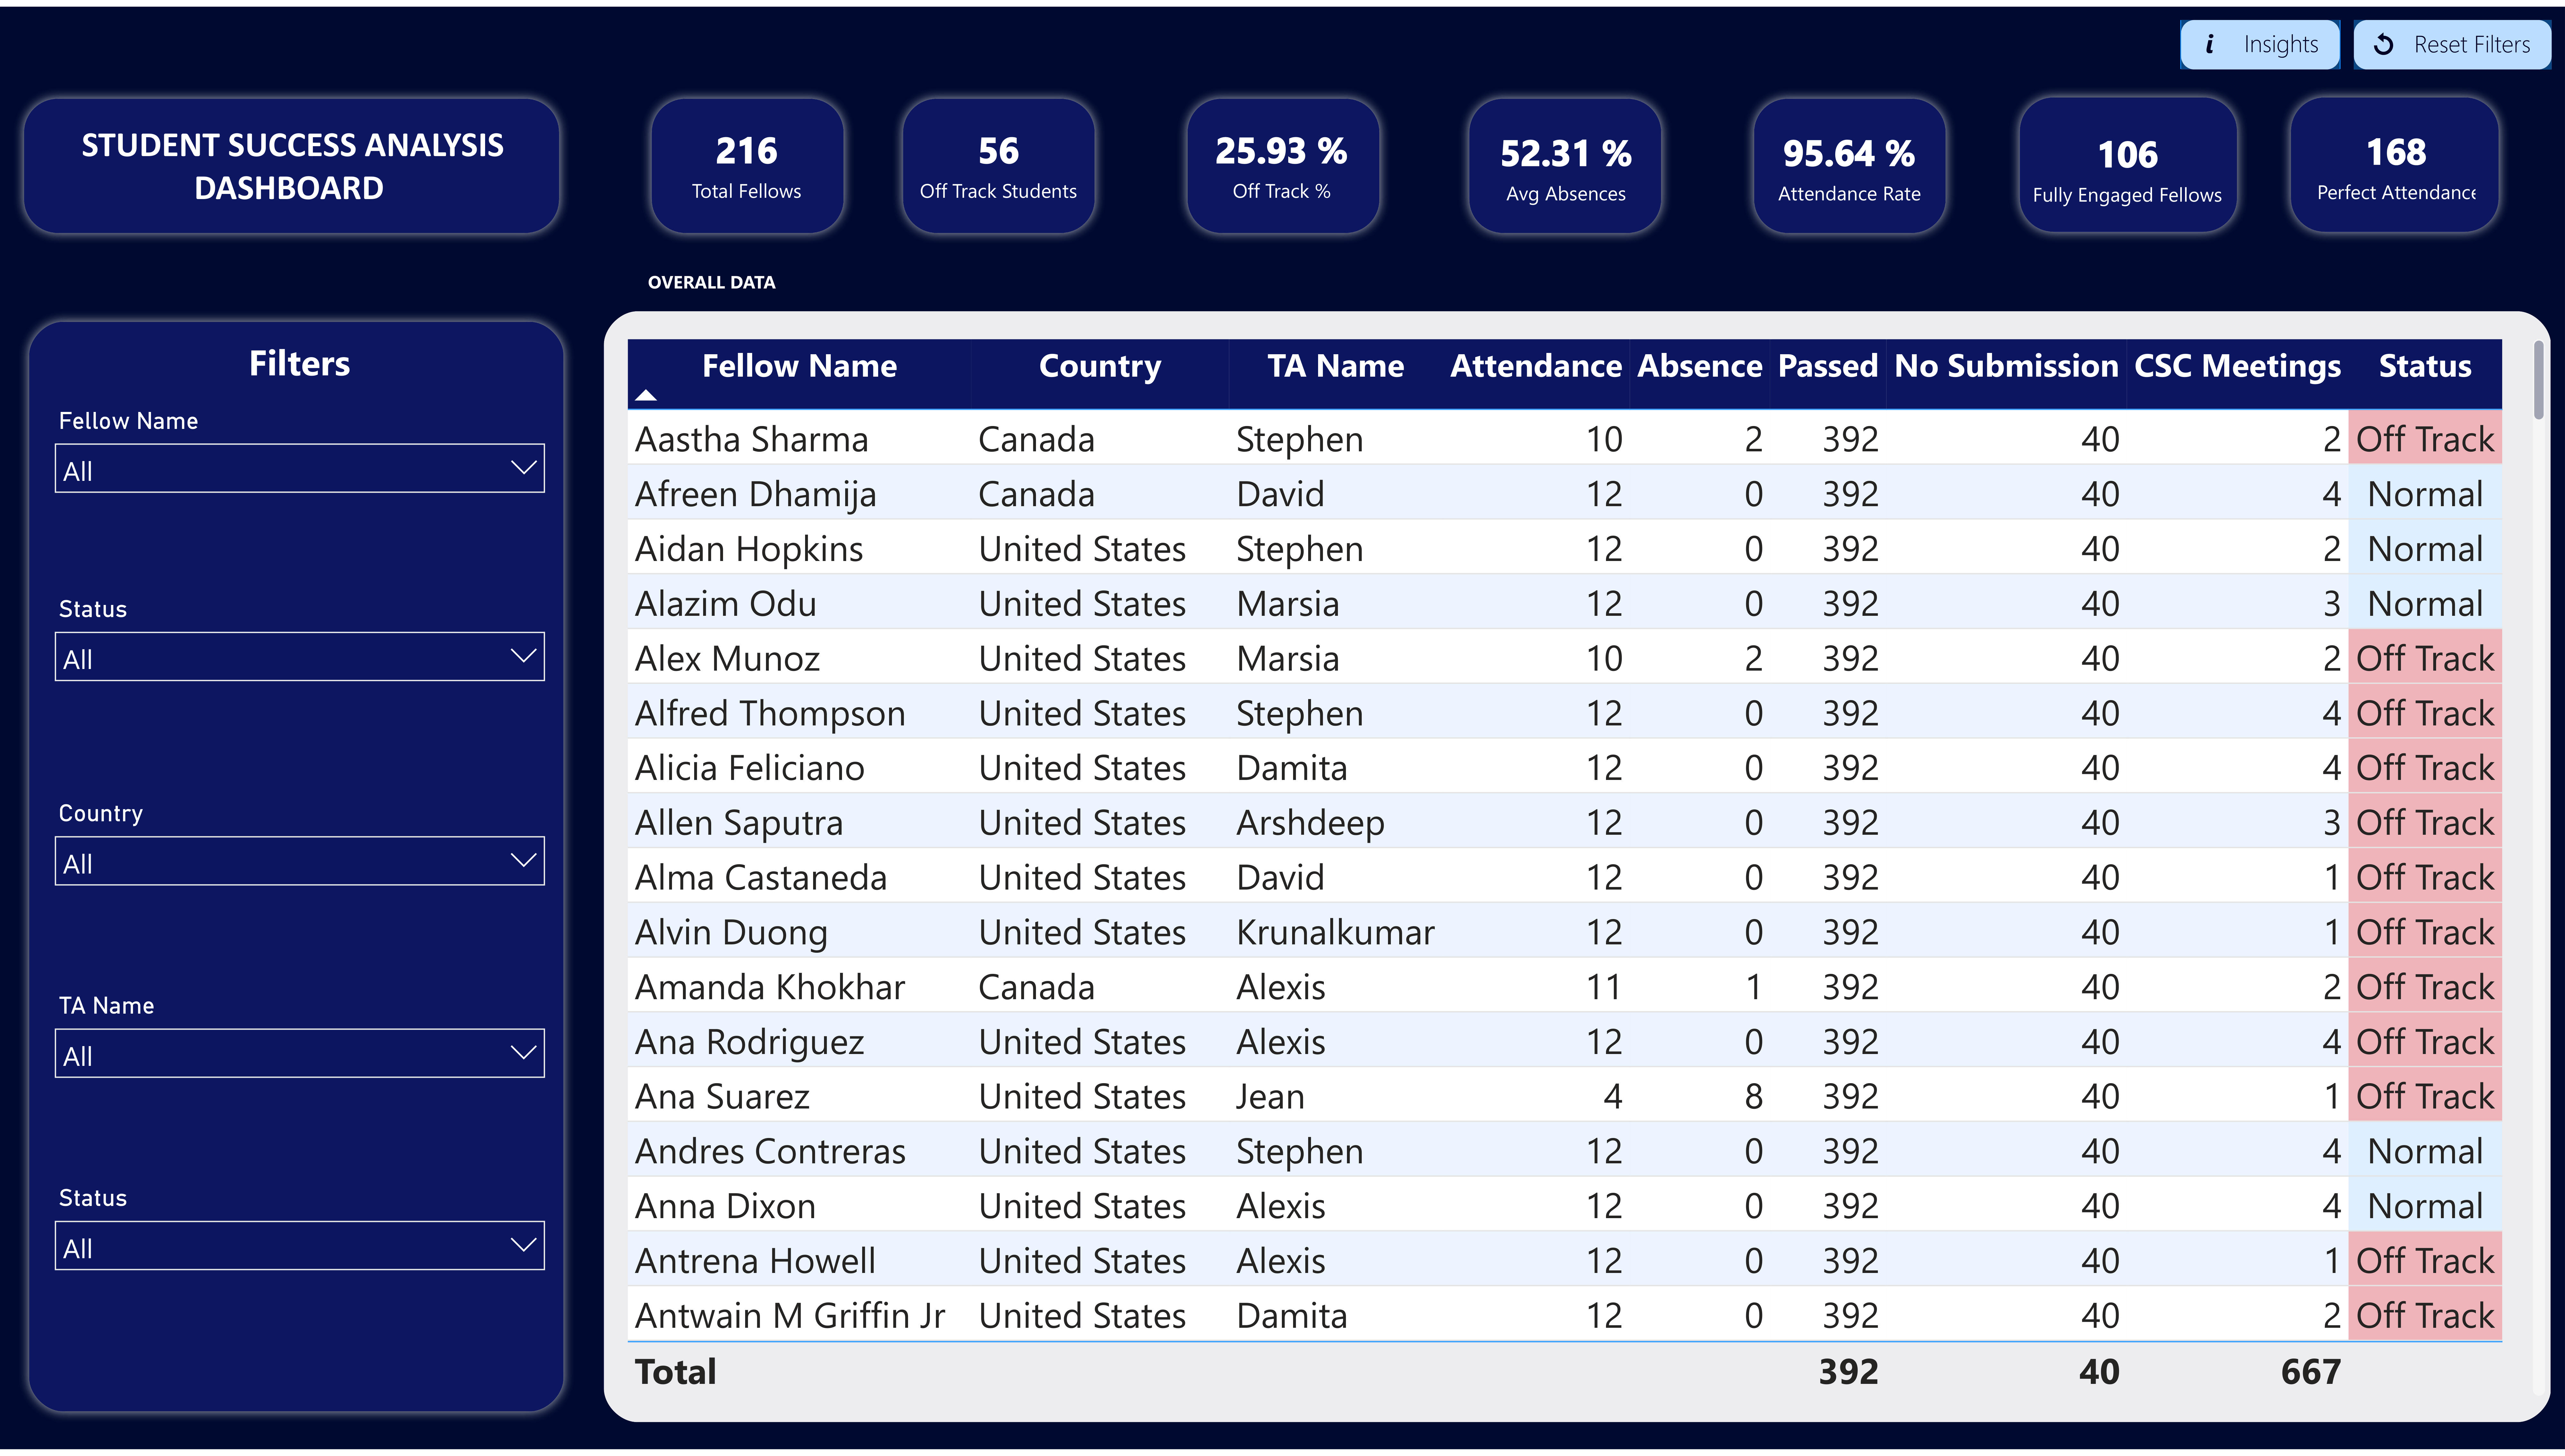

Layout of this report page (visuals, bound fields, positions):
{"tool":"powerbi","page":{"name":"Student Risk Table","canvas":[1920,1080],"ordinal":1},"visuals":[{"type":"shape","box":[1707,60.4,171.3,116.6],"z":0},{"type":"shape","box":[1504,60.4,178.5,116.6],"z":1000},{"type":"shape","box":[1304.9,60.8,159.5,116.4],"z":2000},{"type":"shape","box":[1092.3,60.8,159.5,116.4],"z":3000},{"type":"shape","box":[880.9,60.8,159.5,116.4],"z":4000},{"type":"shape","box":[668.3,60.8,159.5,116.4],"z":5000},{"type":"shape","box":[479.7,60.8,159.5,116.4],"z":8000},{"type":"shape","box":[452.1,228,1457.5,831.7],"z":9000},{"type":"cardVisual","fields":{"Data":["Medidas DAX.Avg Absences Per Fellow"]},"box":[1071.4,70,202.1,98.5],"z":10000},{"type":"cardVisual","fields":{"Data":["Medidas DAX.Fully Engaged Fellows"]},"box":[1491.1,70.5,202.9,97.9],"z":11000},{"type":"cardVisual","fields":{"Data":["Medidas DAX.Attendance Rate"]},"box":[1283.9,70,200.8,98.5],"z":12000},{"type":"cardVisual","fields":{"Data":["Medidas DAX.Off Track %"]},"box":[858.9,67.4,200.8,99.8],"z":13000},{"type":"cardVisual","fields":{"Data":["Medidas DAX.Off Track Students"]},"box":[646.5,67.4,202.1,99.8],"z":16000},{"type":"textbox","box":[20.3,21.5,406.3,38],"z":17000},{"type":"tableEx","fields":{"Values":["Roster.Fellow Name","Roster.Country","Roster.TA Name","Class Attendance.Attendance","Class Attendance.Absence","Sum(PD Project.Passed)","Sum(PD Project.No Submission)","Sum(CSC Meeting Per Student.CSC Meetings)","Roster.Status"]},"box":[463.8,243.6,1445.8,800.6],"z":18000},{"type":"cardVisual","fields":{"Data":["Medidas DAX.Total Fellows"]},"box":[492.3,67.4,133.4,99.8],"z":19000},{"type":"textbox","box":[479.7,192.4,464.5,36.7],"z":20000},{"type":"actionButton","box":[1762,10,148,37],"z":23000},{"type":"actionButton","title":"off button","box":[1632,10.2,120.2,36.7],"z":26000},{"type":"shape","box":[10.1,60.8,416.4,116.4],"z":27000},{"type":"image","box":[35.4,74.7,346.8,86.1],"z":28000},{"type":"cardVisual","fields":{"Data":["Medidas DAX.Fellows Perfect Attendance"]},"box":[1717.1,67.6,152.6,99.3],"z":29000},{"type":"treemap","fields":{"Group":["Roster.Status"]},"box":[510.1,672.1,531.6,331.6],"z":32000},{"type":"shape","box":[14.3,228,415.9,831.7],"z":34000},{"type":"textbox","box":[35,242.3,378.3,51.8],"z":35000},{"type":"slicer","fields":{"Values":["Roster.Fellow Name"]},"box":[35,299.3,378.3,99.8],"z":36000},{"type":"slicer","fields":{"Values":["Roster.Status"]},"box":[35.2,440.4,378,100.3],"z":37000},{"type":"slicer","fields":{"Values":["Roster.Status"]},"box":[35.2,880.7,378,100.3],"z":38000},{"type":"slicer","fields":{"Values":["Roster.Country"]},"box":[35.2,593.5,378,100.3],"z":41000},{"type":"slicer","fields":{"Values":["Roster.TA Name"]},"box":[35.2,737.1,378,100.3],"z":42000}]}

Visuals, with their boxes in screenshot pixels (x1, y1, x2, y2), scaled from the page's 1920x1080 canvas onto the 2565x1456 screenshot:
shape: bbox=(2281, 81, 2509, 238)
shape: bbox=(2009, 81, 2248, 238)
shape: bbox=(1743, 82, 1956, 239)
shape: bbox=(1459, 82, 1672, 239)
shape: bbox=(1177, 82, 1390, 239)
shape: bbox=(893, 82, 1106, 239)
shape: bbox=(641, 82, 854, 239)
shape: bbox=(604, 307, 2551, 1429)
cardVisual - Medidas DAX.Avg Absences Per Fellow: bbox=(1431, 94, 1701, 227)
cardVisual - Medidas DAX.Fully Engaged Fellows: bbox=(1992, 95, 2263, 227)
cardVisual - Medidas DAX.Attendance Rate: bbox=(1715, 94, 1983, 227)
cardVisual - Medidas DAX.Off Track %: bbox=(1148, 91, 1416, 225)
cardVisual - Medidas DAX.Off Track Students: bbox=(864, 91, 1134, 225)
textbox: bbox=(27, 29, 570, 80)
tableEx - Roster.Fellow Name x Roster.Country: bbox=(620, 328, 2551, 1408)
cardVisual - Medidas DAX.Total Fellows: bbox=(658, 91, 836, 225)
textbox: bbox=(641, 259, 1261, 309)
actionButton: bbox=(2354, 13, 2552, 63)
"off button" actionButton: bbox=(2180, 14, 2341, 63)
shape: bbox=(13, 82, 570, 239)
image: bbox=(47, 101, 510, 217)
cardVisual - Medidas DAX.Fellows Perfect Attendance: bbox=(2294, 91, 2498, 225)
treemap - Roster.Status: bbox=(681, 906, 1392, 1353)
shape: bbox=(19, 307, 575, 1429)
textbox: bbox=(47, 327, 552, 397)
slicer - Roster.Fellow Name: bbox=(47, 404, 552, 538)
slicer - Roster.Status: bbox=(47, 594, 552, 729)
slicer - Roster.Status: bbox=(47, 1187, 552, 1323)
slicer - Roster.Country: bbox=(47, 800, 552, 935)
slicer - Roster.TA Name: bbox=(47, 994, 552, 1129)
